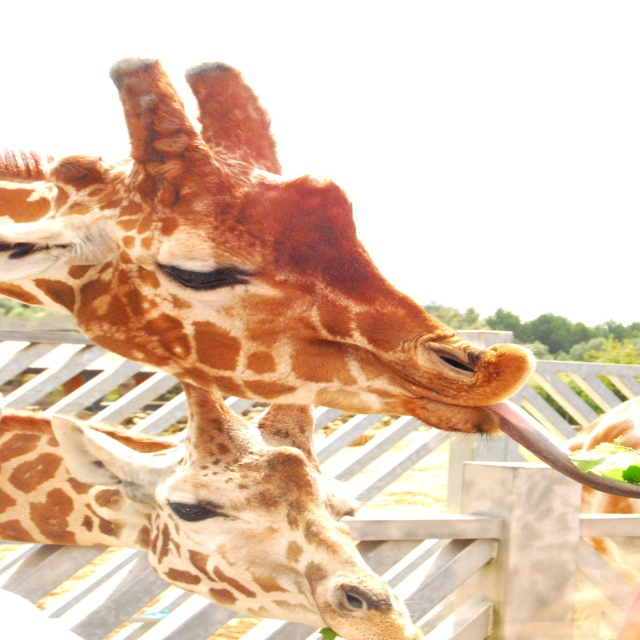Giraffe: (0, 58, 639, 500), (36, 403, 448, 638)
